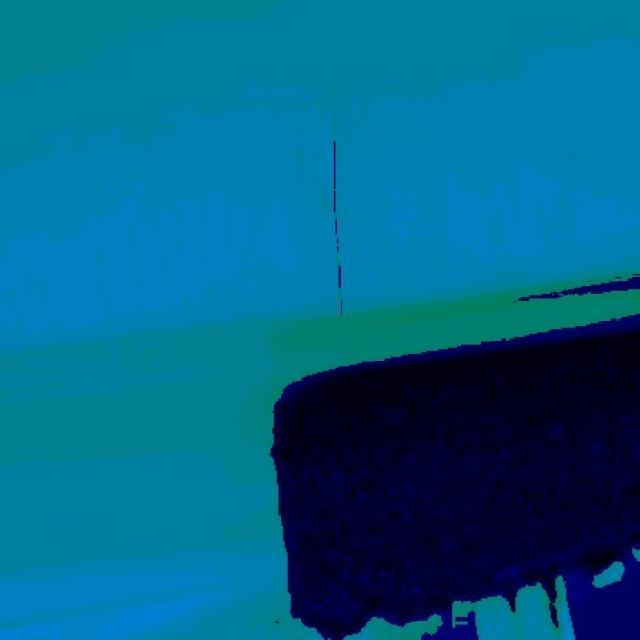crack: (332, 141, 345, 320)
